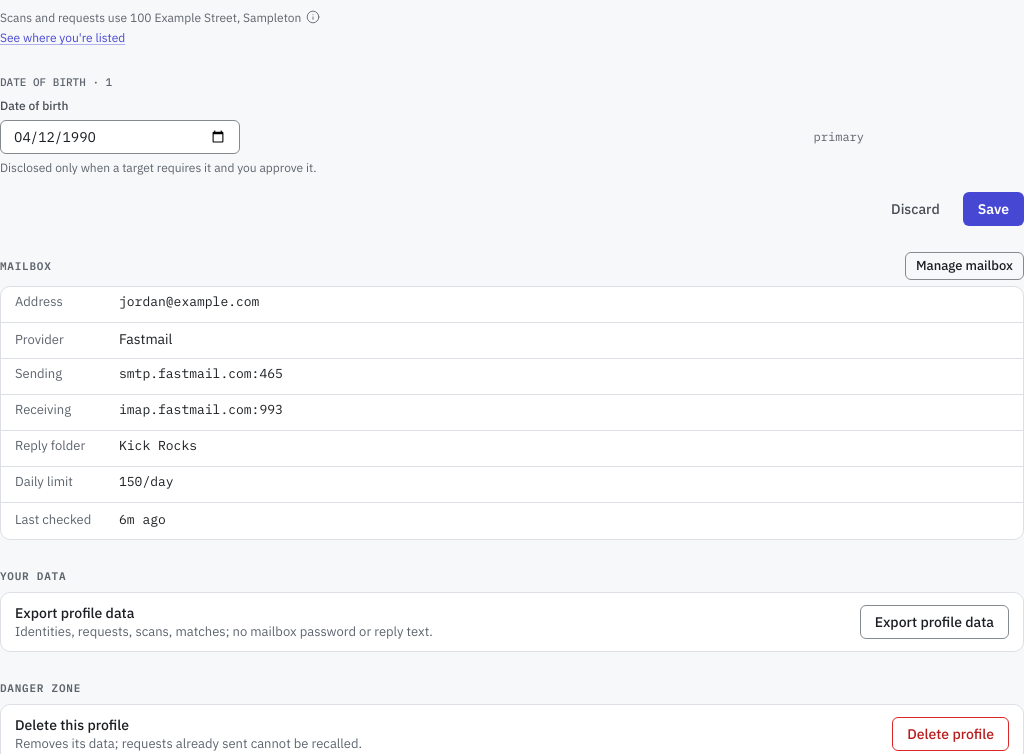
Test: exporting a profile › says so when the export fails, and saves nothing
(page scrolled)
What coordinates should you click on to do the following:
click the button "Export profile data"
I would click on:
 (934, 622)
Its box is top-left (860, 605), bottom-right (1009, 639).
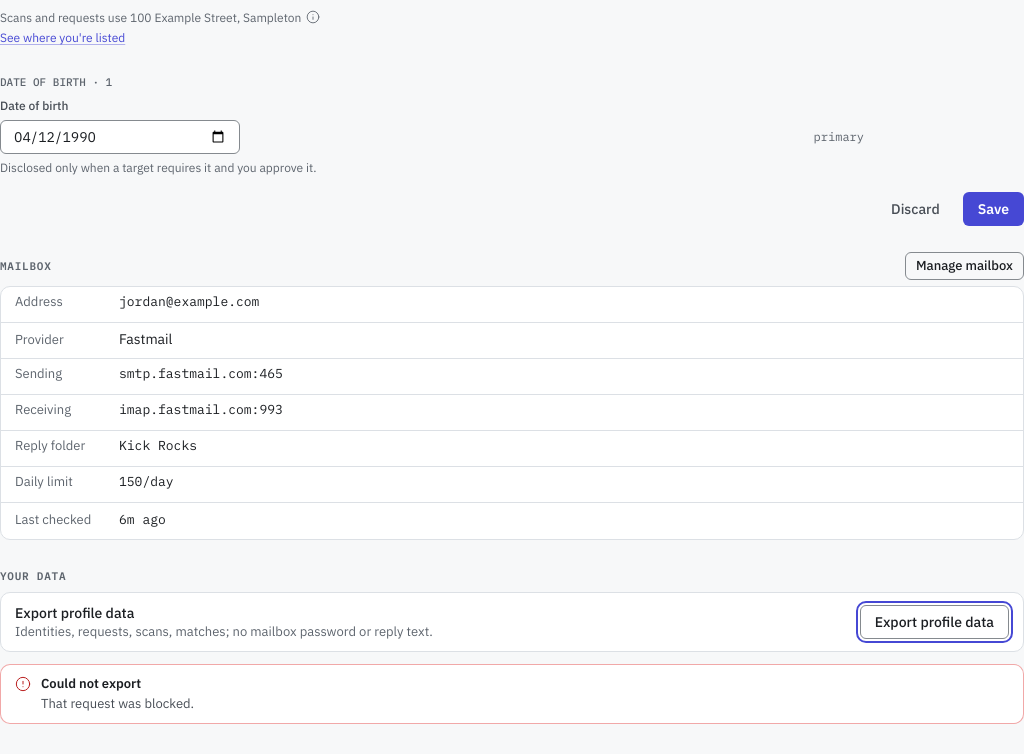
expect the text "Could not export" is shown: met, box top-left (41, 675), bottom-right (141, 692)
